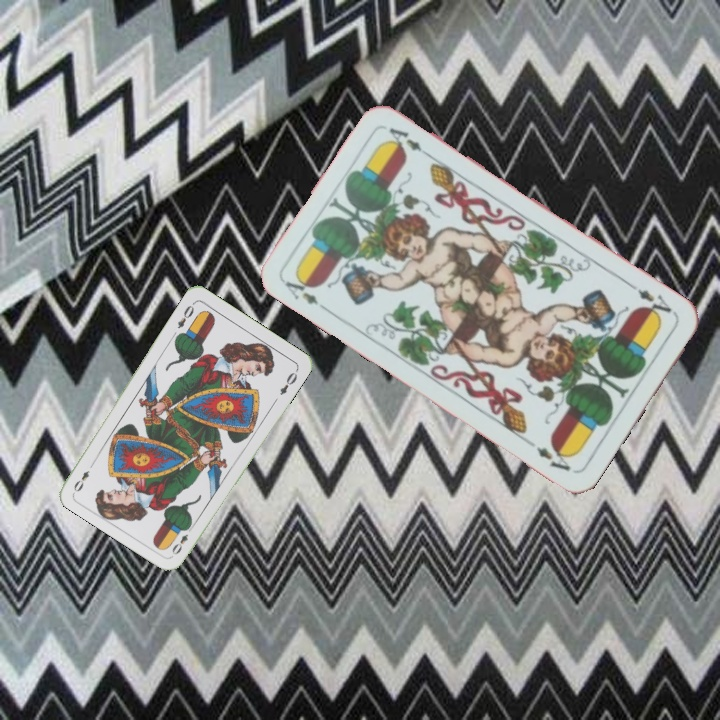EA: (280, 270, 332, 315), (625, 282, 675, 322)
EO: (168, 522, 196, 558), (173, 298, 197, 331)
